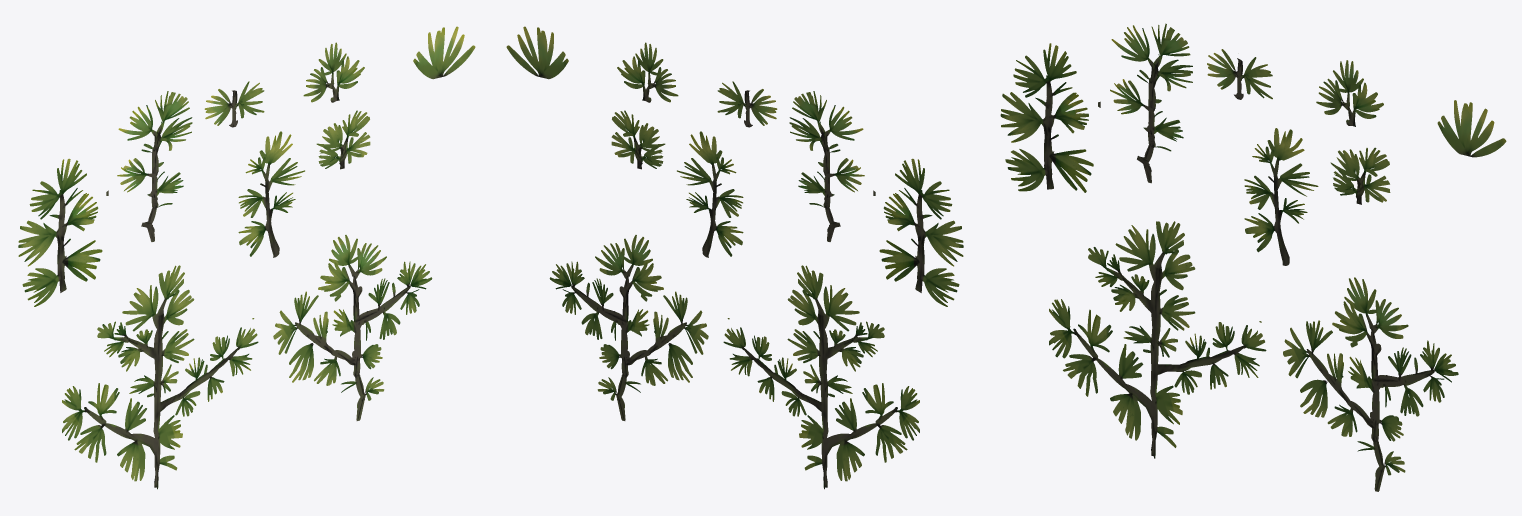
Rendered from TamarackBranchCards.fbx.
3 renders of one model, left to right at view 1: azimuth 30°, elevation 25°; view 2: azimuth 150°, elevation 25°; view 3: azimuth 330°, elevation 25°, orthographic. The views are drawn at different scales.
Parts seen in each view (by area): view 1: TamarackBrancheCard7, TamarackBrancheCard8, TamarackBrancheCard1, TamarackBrancheCard2, TamarackBrancheCard4, TamarackBrancheCard5, TamarackBrancheCard9, TamarackBrancheCard6, TamarackBrancheCard3; view 2: TamarackBrancheCard7, TamarackBrancheCard8, TamarackBrancheCard1, TamarackBrancheCard2, TamarackBrancheCard4, TamarackBrancheCard5, TamarackBrancheCard9, TamarackBrancheCard6, TamarackBrancheCard3; view 3: TamarackBrancheCard7, TamarackBrancheCard8, TamarackBrancheCard1, TamarackBrancheCard2, TamarackBrancheCard4, TamarackBrancheCard5, TamarackBrancheCard9, TamarackBrancheCard6, TamarackBrancheCard3.
Boxes of the visible parts, x1=… form: TamarackBrancheCard7: x1=62, y1=265, x2=258, y2=489; TamarackBrancheCard8: x1=273, y1=235, x2=432, y2=420; TamarackBrancheCard1: x1=18, y1=158, x2=108, y2=306; TamarackBrancheCard2: x1=117, y1=91, x2=192, y2=241; TamarackBrancheCard4: x1=238, y1=131, x2=304, y2=257; TamarackBrancheCard5: x1=316, y1=110, x2=370, y2=169; TamarackBrancheCard9: x1=303, y1=42, x2=364, y2=102; TamarackBrancheCard6: x1=413, y1=26, x2=475, y2=79; TamarackBrancheCard3: x1=204, y1=81, x2=264, y2=127; TamarackBrancheCard7: x1=723, y1=265, x2=919, y2=489; TamarackBrancheCard8: x1=549, y1=235, x2=708, y2=420; TamarackBrancheCard1: x1=873, y1=158, x2=963, y2=306; TamarackBrancheCard2: x1=789, y1=91, x2=864, y2=241; TamarackBrancheCard4: x1=677, y1=131, x2=743, y2=257; TamarackBrancheCard5: x1=611, y1=110, x2=665, y2=169; TamarackBrancheCard9: x1=617, y1=42, x2=678, y2=102; TamarackBrancheCard6: x1=506, y1=26, x2=568, y2=79; TamarackBrancheCard3: x1=717, y1=81, x2=777, y2=127; TamarackBrancheCard7: x1=1049, y1=221, x2=1266, y2=458; TamarackBrancheCard8: x1=1283, y1=277, x2=1458, y2=491; TamarackBrancheCard1: x1=1000, y1=43, x2=1100, y2=192; TamarackBrancheCard2: x1=1110, y1=23, x2=1192, y2=183; TamarackBrancheCard4: x1=1244, y1=128, x2=1318, y2=265; TamarackBrancheCard5: x1=1330, y1=147, x2=1390, y2=204; TamarackBrancheCard9: x1=1316, y1=60, x2=1383, y2=126; TamarackBrancheCard6: x1=1437, y1=100, x2=1506, y2=157; TamarackBrancheCard3: x1=1207, y1=49, x2=1272, y2=99.
Size of the model in its own units: 560 by 470 by 0.
